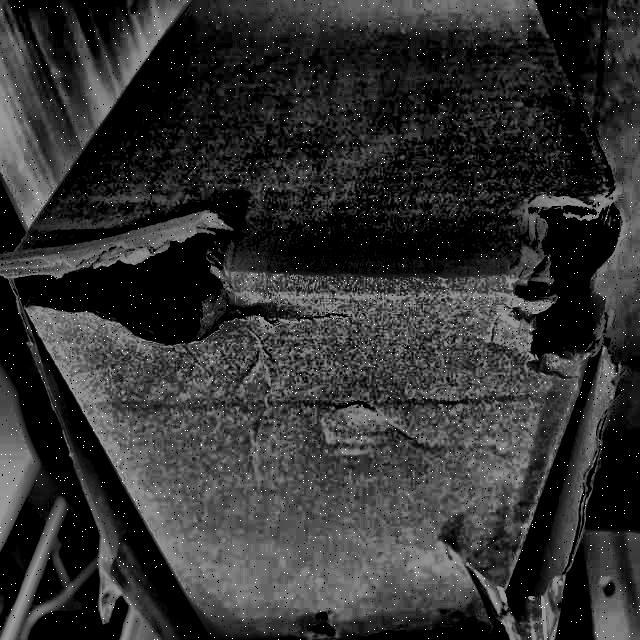box: (10, 0, 630, 640)
hole: (19, 177, 243, 341), (522, 183, 620, 360)
